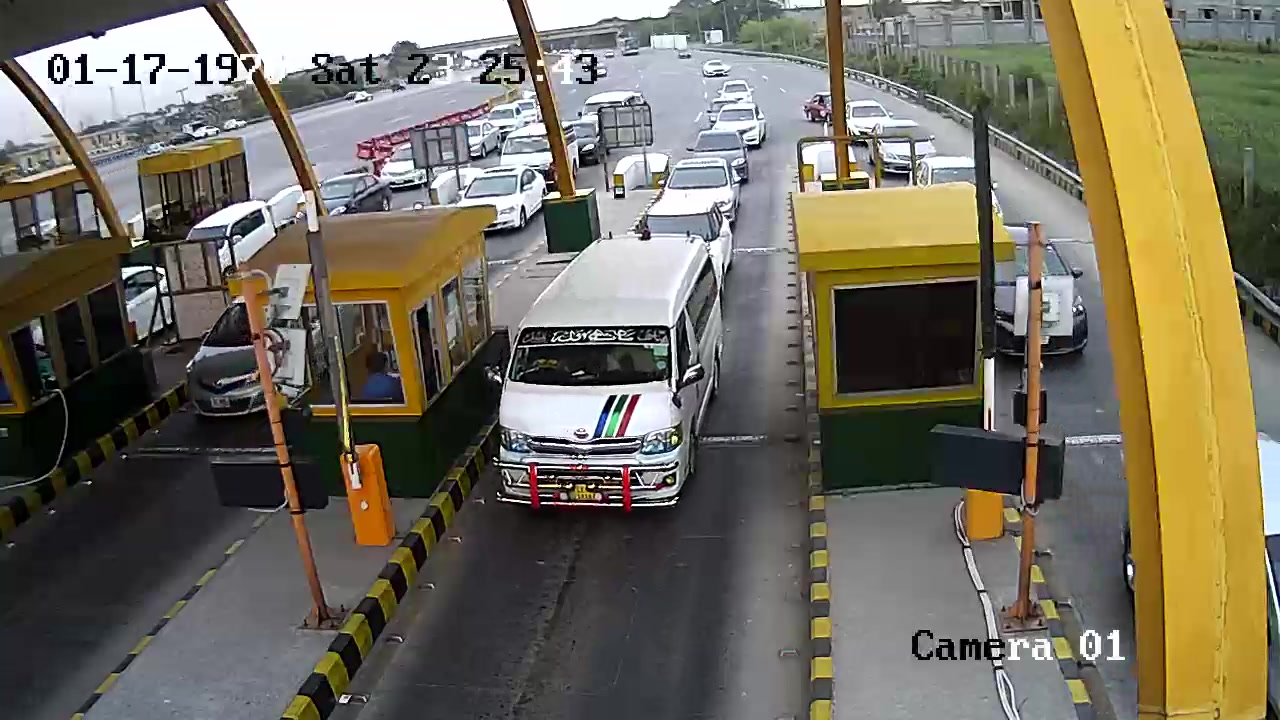F3: (494, 232, 734, 518)
